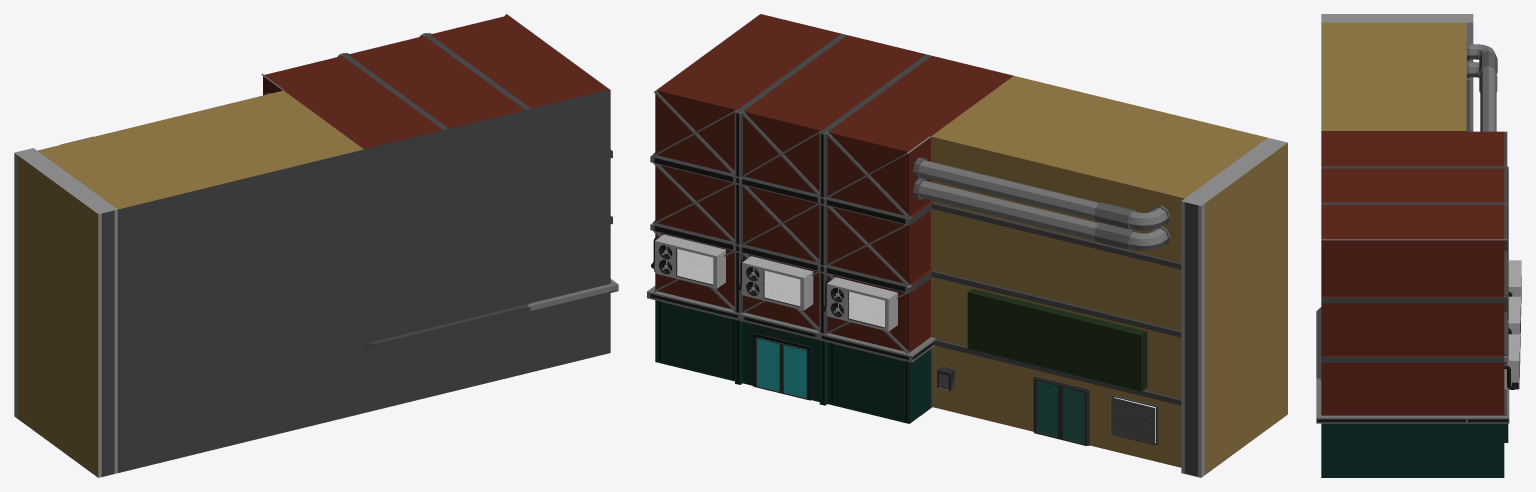
File: Himik_Street_Prop_Building_8.fbx
3 views of the same model, side by side, from view 1: azimuth 30°, elevation 25°; view 2: azimuth 150°, elevation 25°; view 3: azimuth 270°, elevation 25° (orthographic). The views are drawn at different scales.
Visible parts, largest first — view 1: PropBuilding8(Abandoned)_Body; view 2: PropBuilding8(Abandoned)_Body, BillBoard, Pipe, Pipe_2, AC MODEL.008, AC MODEL.009, PropBuilding8(Abandoned)_Door_2, AC MODEL.010, PropBuilding8(Abandoned)_Door, Shutters.001; view 3: PropBuilding8(Abandoned)_Body, Pipe, AC MODEL.010, AC MODEL.009, AC MODEL.008, Pipe_2.
Part boxes in pixels (box(x1,y1,x2,y2)): PropBuilding8(Abandoned)_Body: box(14, 14, 618, 477); PropBuilding8(Abandoned)_Body: box(647, 14, 1287, 477); BillBoard: box(967, 288, 1147, 391); Pipe: box(913, 157, 1170, 230); Pipe_2: box(913, 178, 1170, 250); AC MODEL.008: box(738, 256, 813, 310); AC MODEL.009: box(822, 277, 897, 331); PropBuilding8(Abandoned)_Door_2: box(1034, 378, 1087, 445); AC MODEL.010: box(651, 234, 725, 288); PropBuilding8(Abandoned)_Door: box(754, 337, 808, 399); Shutters.001: box(1111, 397, 1155, 445); PropBuilding8(Abandoned)_Body: box(1316, 14, 1509, 477); Pipe: box(1467, 43, 1497, 131); AC MODEL.010: box(1504, 334, 1520, 389); AC MODEL.009: box(1508, 260, 1521, 315); AC MODEL.008: box(1508, 296, 1520, 348); Pipe_2: box(1467, 61, 1497, 92).
Size of the model in its own units: 5393 by 2054 by 2627.
9 materials, 9 textured.
